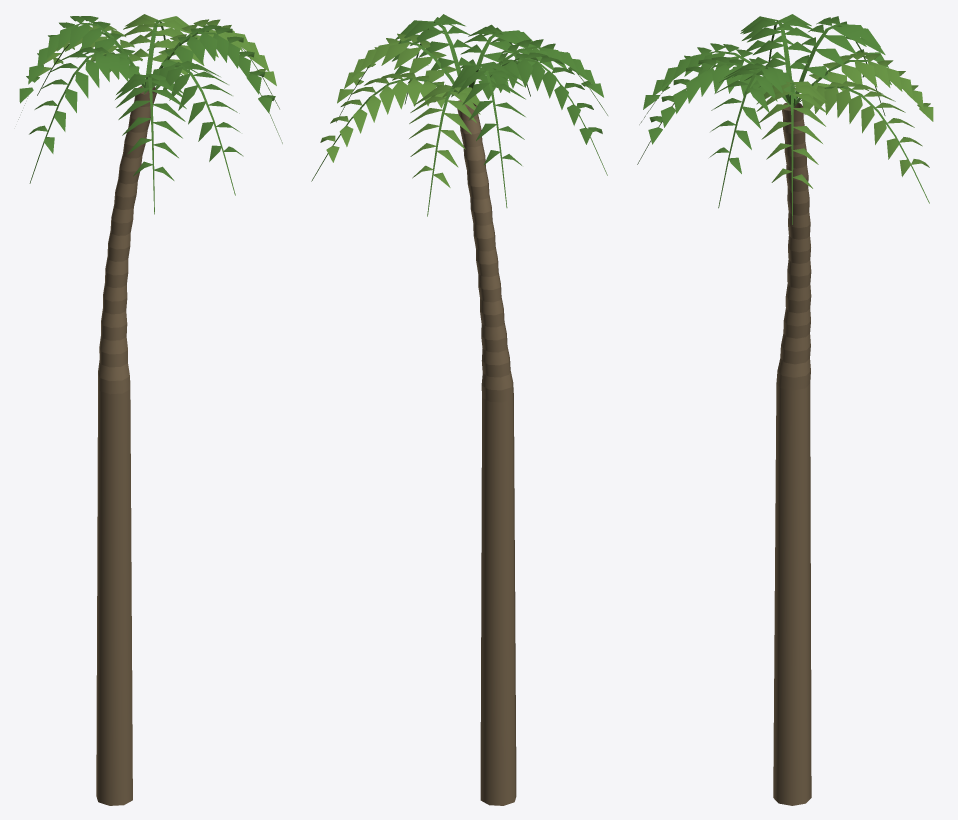
Rendered from coconut-palm.glb.
3 views of the same model, side by side, from view 1: azimuth 30°, elevation 25°; view 2: azimuth 150°, elevation 25°; view 3: azimuth 270°, elevation 25° (orthographic). The views are drawn at different scales.
Parts seen in each view (by area): view 1: Coconut palm; view 2: Coconut palm; view 3: Coconut palm.
Boxes of the visible parts, x1=… form: Coconut palm: x1=18, y1=14, x2=282, y2=805; Coconut palm: x1=311, y1=14, x2=607, y2=805; Coconut palm: x1=637, y1=14, x2=933, y2=805.
Size of the model in its own units: 6.93 by 19.16 by 6.91.
